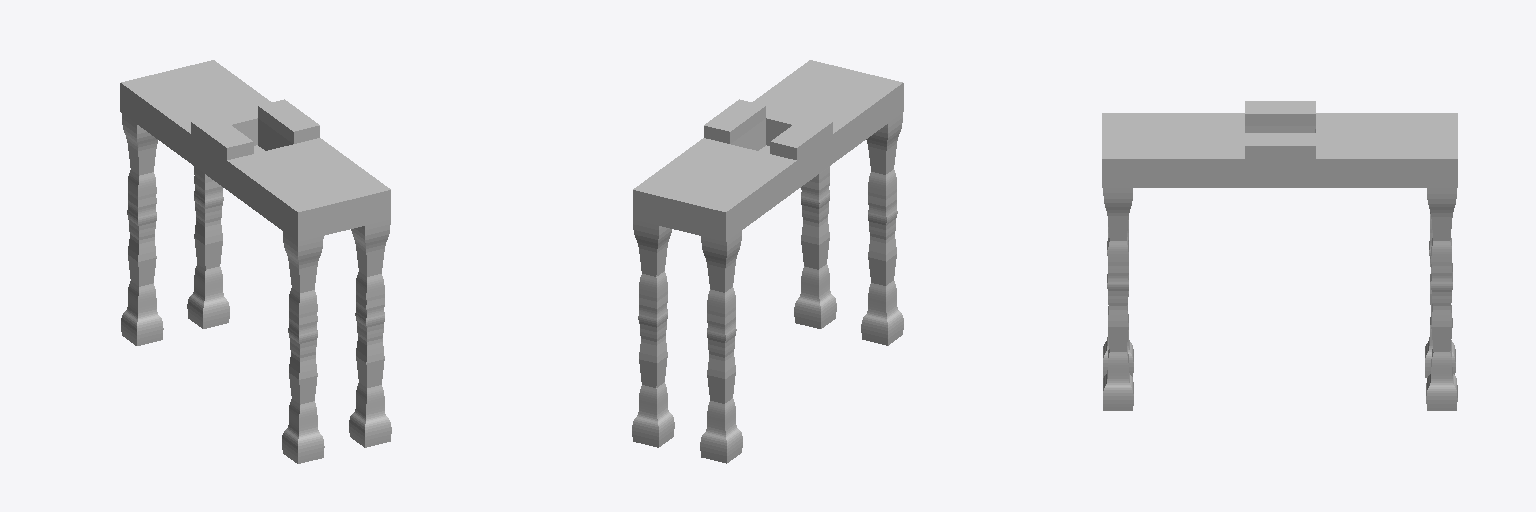
The model's file is table and hole.obj.
3 views of the same model, side by side, from view 1: azimuth 30°, elevation 25°; view 2: azimuth 150°, elevation 25°; view 3: azimuth 270°, elevation 25° (orthographic).
Visible parts, largest first — view 1: Cube.003, Cube.000_Cube.006, Cube.001, Cube.002_Cube.007, Cube.004_Cube.008; view 2: Cube.003, Cube.002_Cube.007, Cube.004_Cube.008, Cube.000_Cube.006, Cube.001; view 3: Cube.003, Cube.004_Cube.008, Cube.001, Cube.002_Cube.007.
Part boxes in pixels (x1,y1,x2,y2): Cube.003: (120,60,390,241); Cube.000_Cube.006: (282,231,324,463); Cube.001: (349,220,391,447); Cube.002_Cube.007: (121,114,163,345); Cube.004_Cube.008: (187,166,229,328); Cube.003: (633,60,903,241); Cube.002_Cube.007: (700,231,742,463); Cube.004_Cube.008: (632,220,674,447); Cube.000_Cube.006: (861,113,903,345); Cube.001: (794,166,836,328); Cube.003: (1102,101,1457,187); Cube.004_Cube.008: (1426,188,1457,410); Cube.001: (1103,188,1133,410); Cube.002_Cube.007: (1425,212,1455,377).
Bounding box in the file's own units: 3.71 × 9.93 × 12.08.